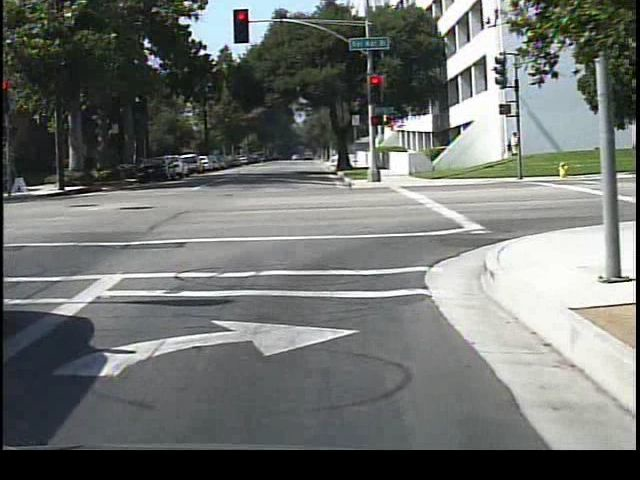person: (498, 128, 522, 174)
